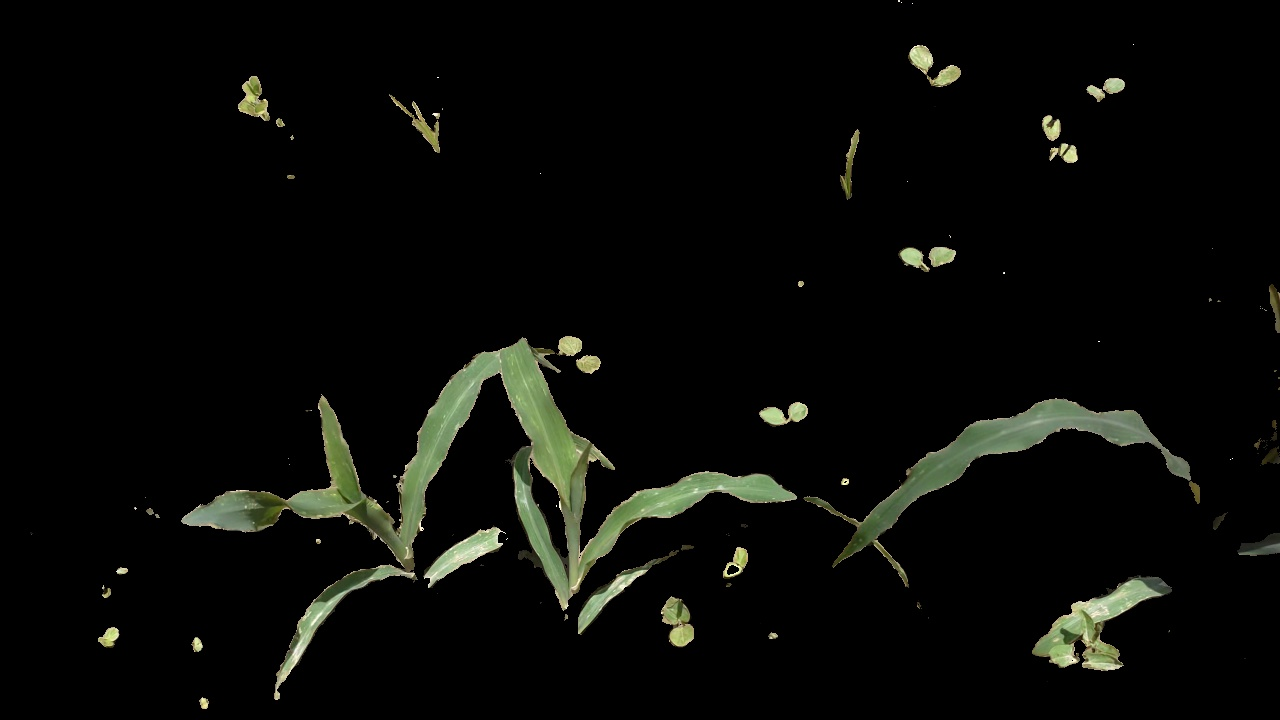crop: (841, 304, 1275, 623), (182, 317, 499, 682), (491, 342, 805, 648)
weed: (221, 68, 312, 162), (1043, 619, 1130, 679), (902, 39, 982, 97), (391, 88, 459, 152), (833, 123, 869, 217), (1035, 105, 1080, 169), (654, 598, 705, 653), (756, 394, 820, 433), (893, 242, 963, 274), (714, 536, 756, 584), (558, 331, 598, 378), (1082, 74, 1133, 108), (92, 624, 125, 648)
